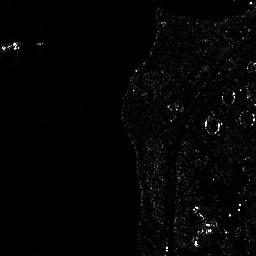ship: (1, 41, 22, 51)
